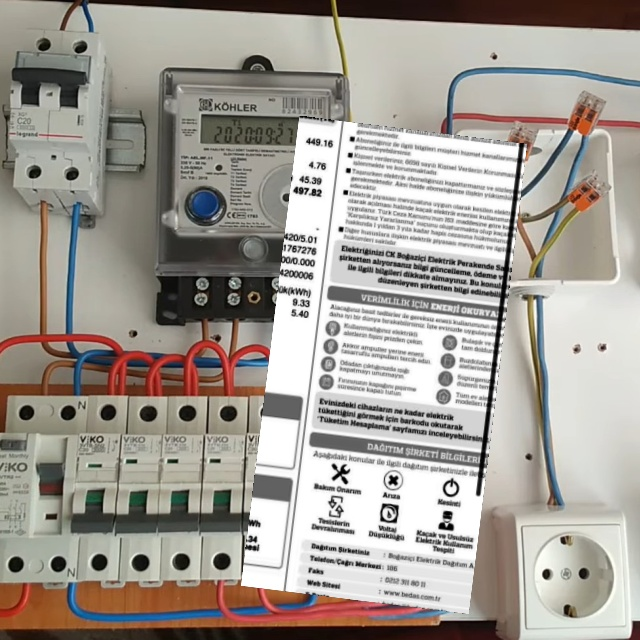electricity-bill: (241, 115, 527, 613)
